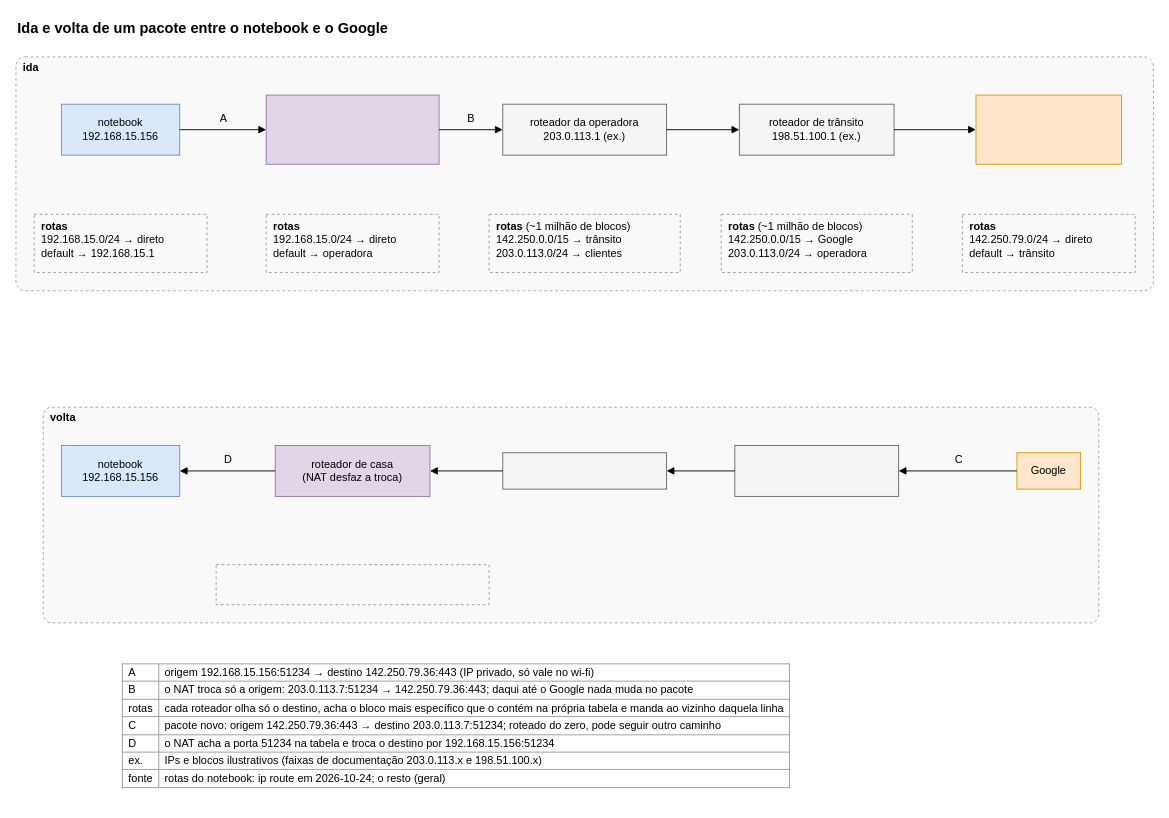
The diagram is 1169 pixels wide and 818 high, and some of its shapes have lost their labels. The shapes that lost their labels are listed below. From the top down, each one's centre as x and y in pixels, then its label:
At [352,129]: "roteador de casa dentro: 192.168.15.1 fora: 203.0.113.7 (ex.)".
At [1048,129]: "Google 142.250.79.36 (ex.) porta 443".
At [584,470]: "roteador da operadora".
At [816,470]: "outro roteador de trânsito (pode ser)".
At [352,584]: "tabela do NAT 203.0.113.7:51234 ⇄ 192.168.15.156:51234".
